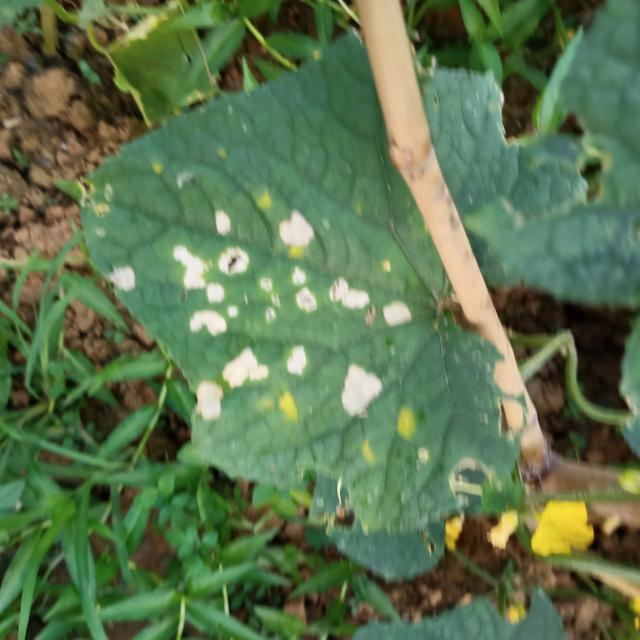disease_cucumber: (92, 206, 416, 340), (189, 341, 387, 425)
